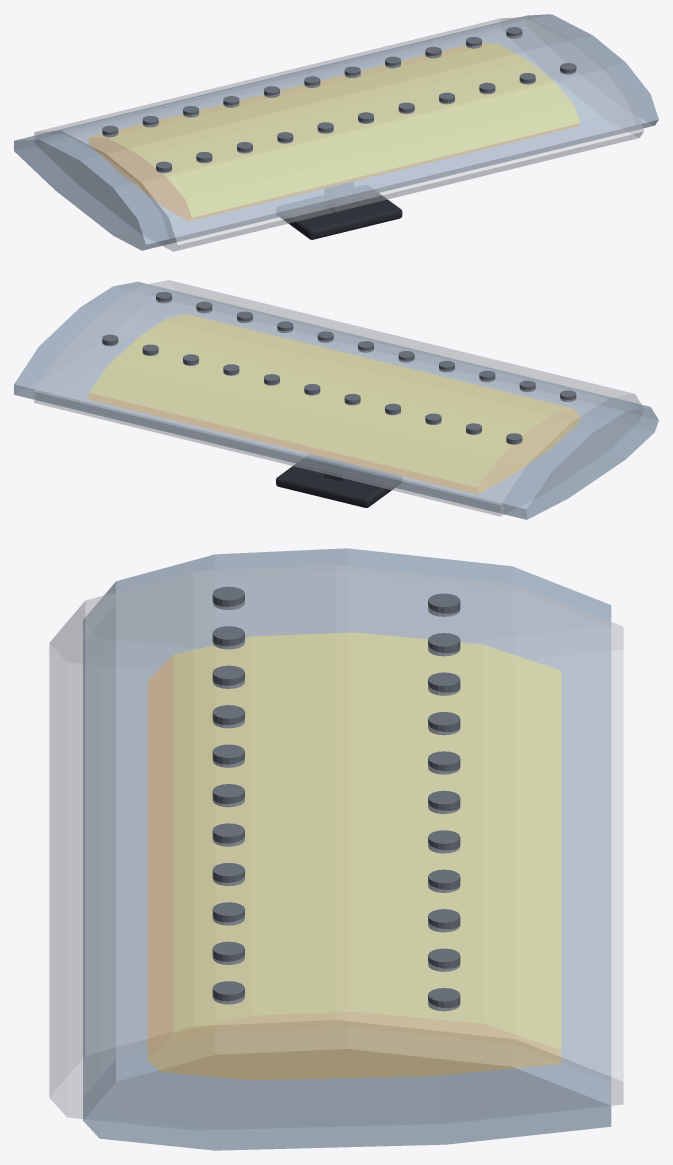
The model's file is ala_corte.glb.
3 renders of one model, top to bottom at view 1: azimuth 30°, elevation 25°; view 2: azimuth 150°, elevation 25°; view 3: azimuth 270°, elevation 25°, orthographic. The views are drawn at different scales.
Visible parts, largest first — view 1: piel, refuerzo, tanque, tornillos, Cube.001; view 2: piel, refuerzo, tanque, tornillos, Cube.001; view 3: piel, refuerzo, tanque, tornillos.
Boxes of the visible parts, box(x1,y1,x2,y2) form: piel: box(34, 17, 643, 251); refuerzo: box(14, 14, 658, 250); tanque: box(89, 43, 579, 220); tornillos: box(102, 27, 576, 173); Cube.001: box(280, 193, 402, 239); piel: box(34, 280, 641, 516); refuerzo: box(14, 281, 658, 519); tanque: box(89, 314, 579, 493); tornillos: box(102, 292, 576, 444); Cube.001: box(276, 463, 394, 507); piel: box(49, 565, 623, 1127); refuerzo: box(83, 548, 611, 1150); tanque: box(148, 632, 560, 1079); tornillos: box(212, 586, 460, 1011).
Bounding box in the file's own units: 3.3 × 0.745 × 1.6.
